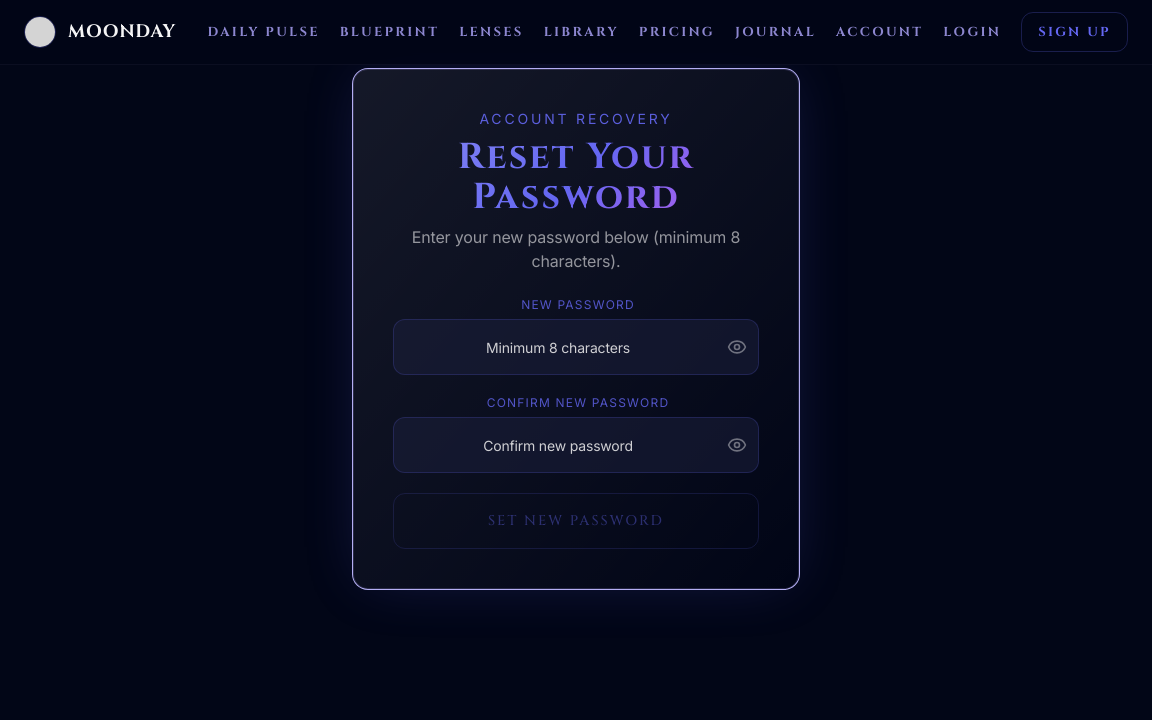
Test: Password Reset Flow › 2. Password Reset Page › validates minimum 8 characters and password match
Check: the heading "Reset Your Password" is shown, box [393,137,759,217]
// Test too short
Type "short" into the password field with placeholder "Minimum 8 characters" at (576, 347), box [393,319,759,375]
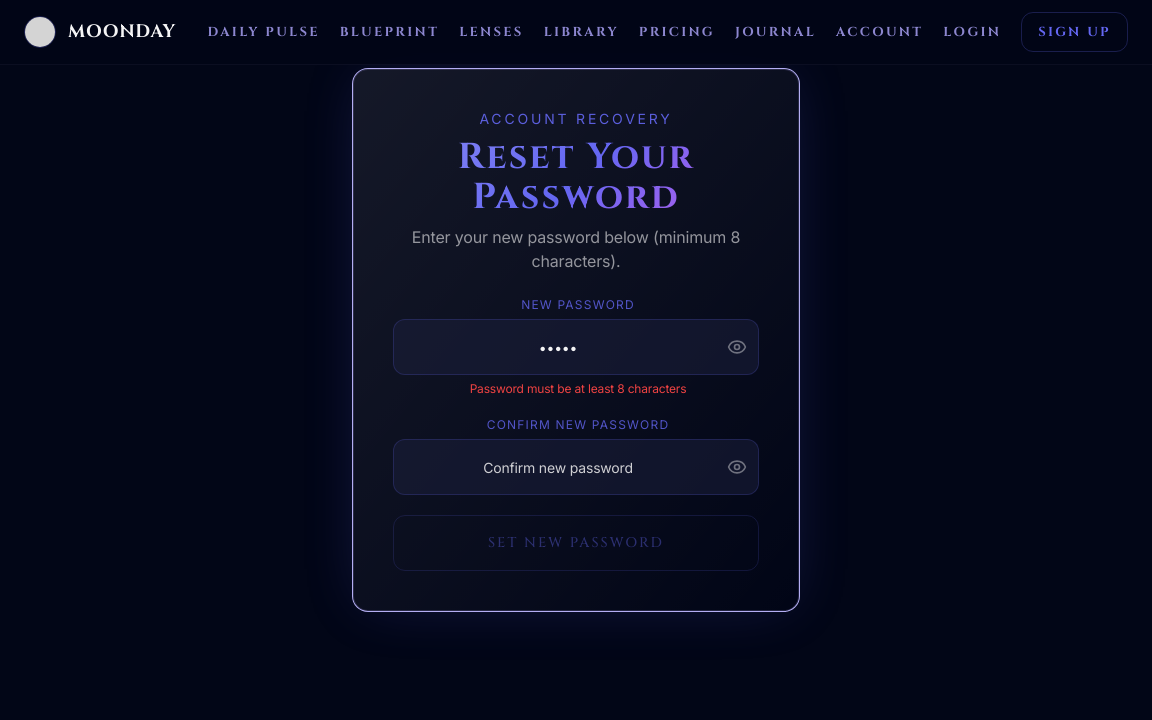
Check: the button "Set New Password" is disabled, box [393,515,759,571]
Check: the text "Password must be at least 8 characters" is shown, box [470,381,686,396]
// Test mismatch
Type "validPassword123" into the password field with placeholder "Minimum 8 characters" at (576, 347), box [393,319,759,375]
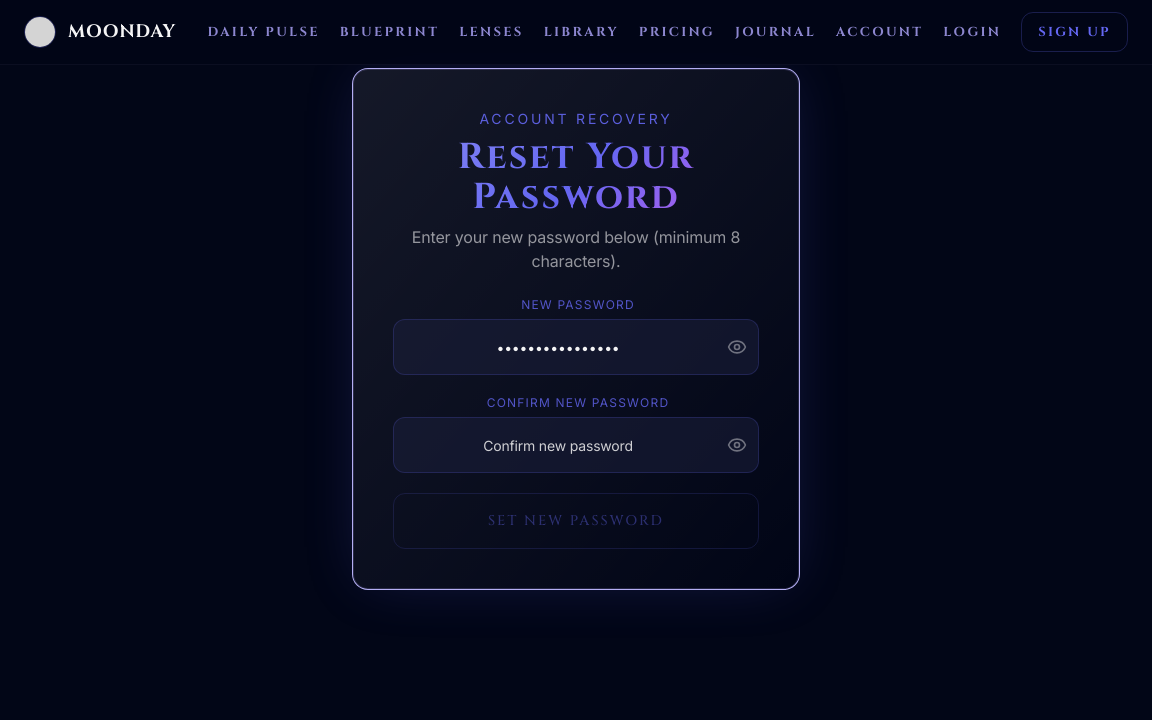
Type "differentPassword" into the password field with placeholder "Confirm New Password" at (576, 445), box [393,417,759,473]
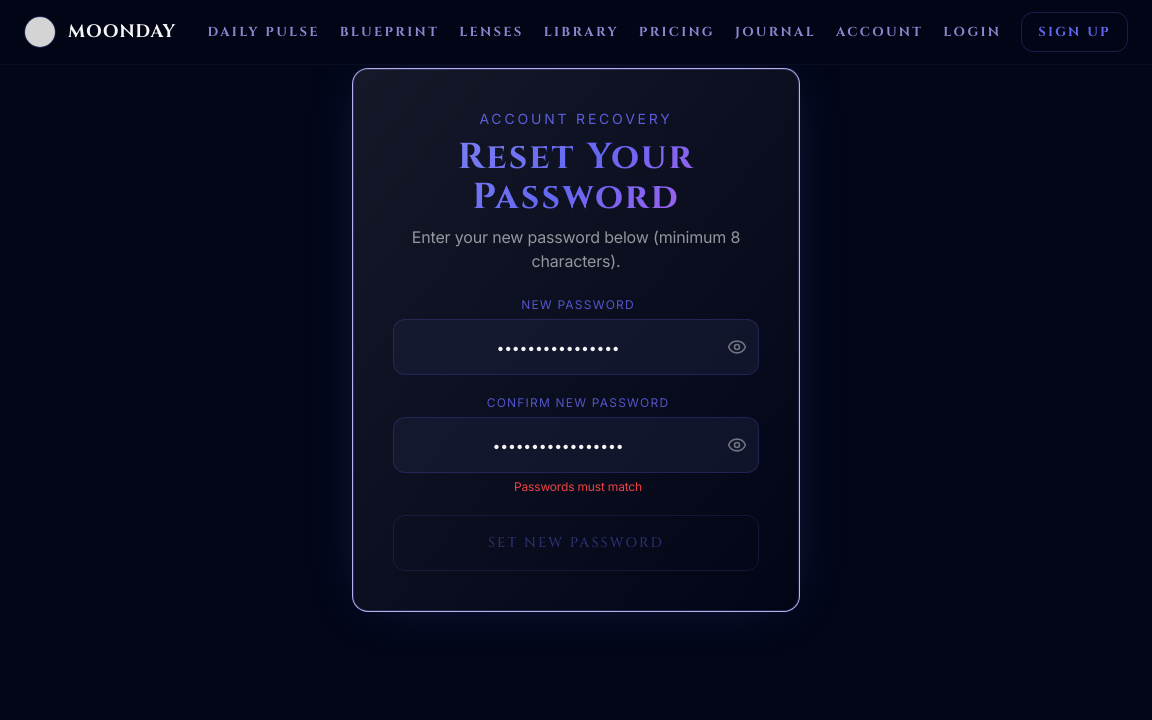
Check: the button "Set New Password" is disabled, box [393,515,759,571]
Check: the text "Passwords must match" is shown, box [514,479,642,494]
Type "validPassword123" into the password field with placeholder "Confirm New Password" at (576, 445), box [393,417,759,473]
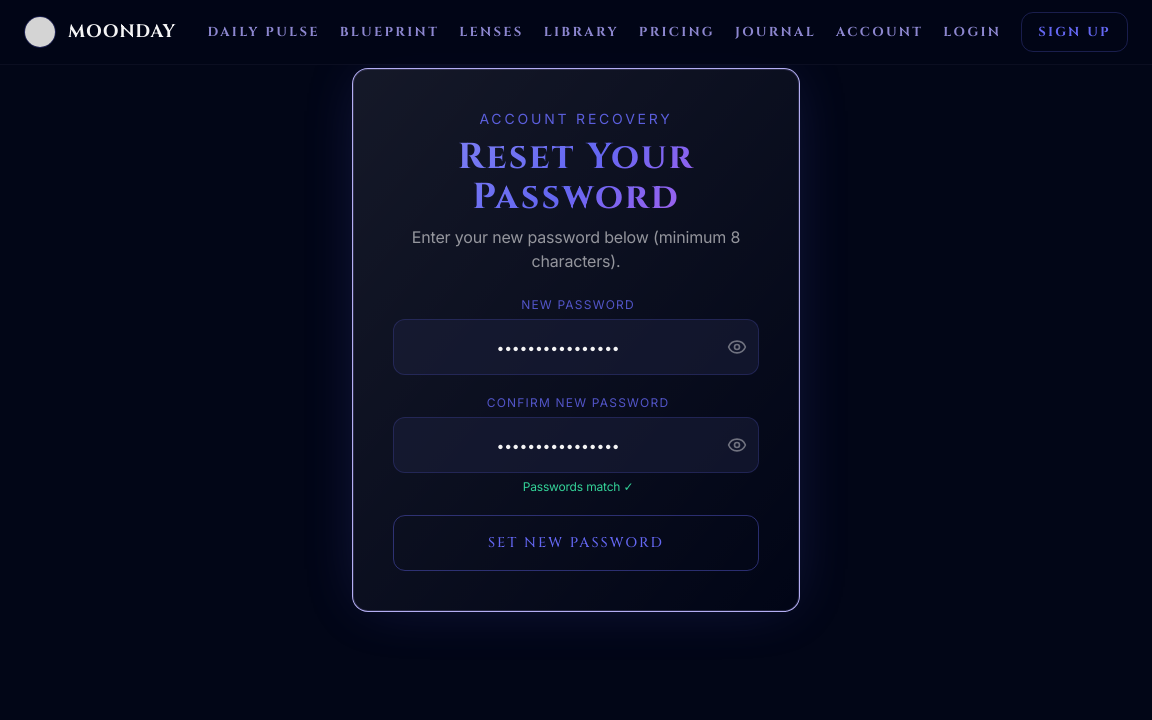
Check: the text "Passwords match ✓" is shown, box [523,479,633,494]
Check: the button "Set New Password" is enabled, box [393,515,759,571]
